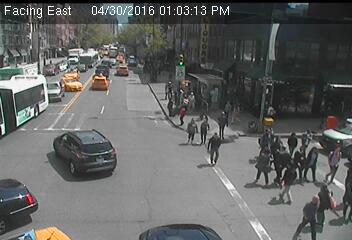neg: (29, 176, 69, 228), (94, 126, 130, 174), (93, 71, 121, 109), (196, 183, 222, 217), (288, 39, 310, 70), (159, 208, 181, 237), (232, 42, 253, 71), (33, 122, 54, 151), (141, 167, 162, 195), (80, 180, 101, 208), (188, 30, 208, 57), (157, 46, 175, 71)
pos: (295, 192, 329, 237), (274, 161, 306, 204), (318, 142, 349, 183), (300, 142, 329, 180), (251, 144, 279, 181), (203, 130, 228, 164), (193, 115, 216, 145), (213, 110, 235, 139), (180, 114, 201, 142)
